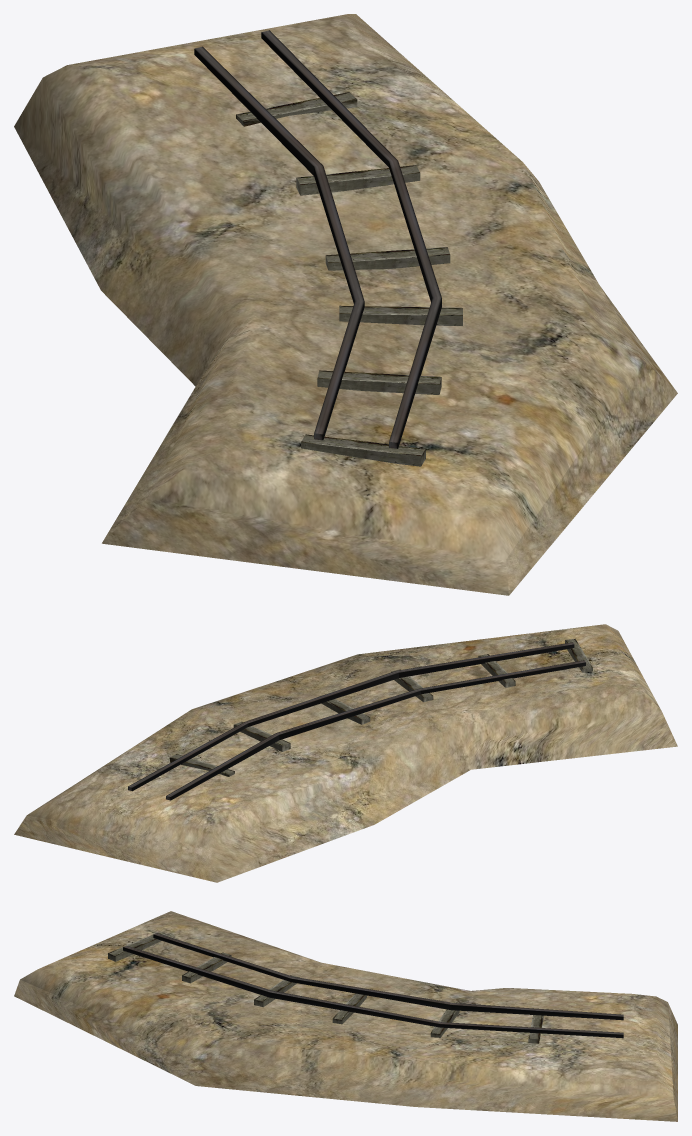
File: pir_m_prp_mng_track_curve45.fbx
The picture shows the model from 3 angles, top to bottom: view 1: azimuth 30°, elevation 25°; view 2: azimuth 150°, elevation 25°; view 3: azimuth 270°, elevation 25°; orthographic projection. The views are drawn at different scales.
Visible parts, largest first — view 1: mound, rail, rail_1, pCube17, pCube14, pCube9, pCube12, pCube11, pCube7; view 2: mound, rail, rail_1, pCube9, pCube11, pCube7; view 3: mound, rail, rail_1, pCube17, pCube14, pCube12, pCube11, pCube9.
Boxes of the visible parts, bbox=[...] form: mound: bbox=[14, 14, 677, 595]; rail: bbox=[261, 30, 441, 448]; rail_1: bbox=[194, 46, 364, 440]; pCube17: bbox=[301, 434, 425, 466]; pCube14: bbox=[317, 370, 441, 394]; pCube9: bbox=[296, 165, 420, 195]; pCube12: bbox=[339, 305, 462, 325]; pCube11: bbox=[325, 247, 450, 270]; pCube7: bbox=[236, 92, 357, 126]; mound: bbox=[14, 624, 677, 882]; rail: bbox=[128, 642, 574, 791]; rail_1: bbox=[166, 660, 585, 800]; pCube9: bbox=[233, 721, 290, 751]; pCube11: bbox=[318, 694, 370, 724]; pCube7: bbox=[170, 754, 234, 776]; mound: bbox=[14, 911, 677, 1121]; rail: bbox=[123, 946, 623, 1038]; rail_1: bbox=[153, 933, 623, 1020]; pCube17: bbox=[108, 933, 161, 961]; pCube14: bbox=[182, 952, 231, 983]; pCube12: bbox=[254, 975, 299, 1007]; pCube11: bbox=[332, 993, 366, 1024]; pCube9: bbox=[430, 1009, 459, 1037].
Bounding box in the file's own units: 2477 × 312 × 3612.
Materials: 2 (2 with a texture image).
